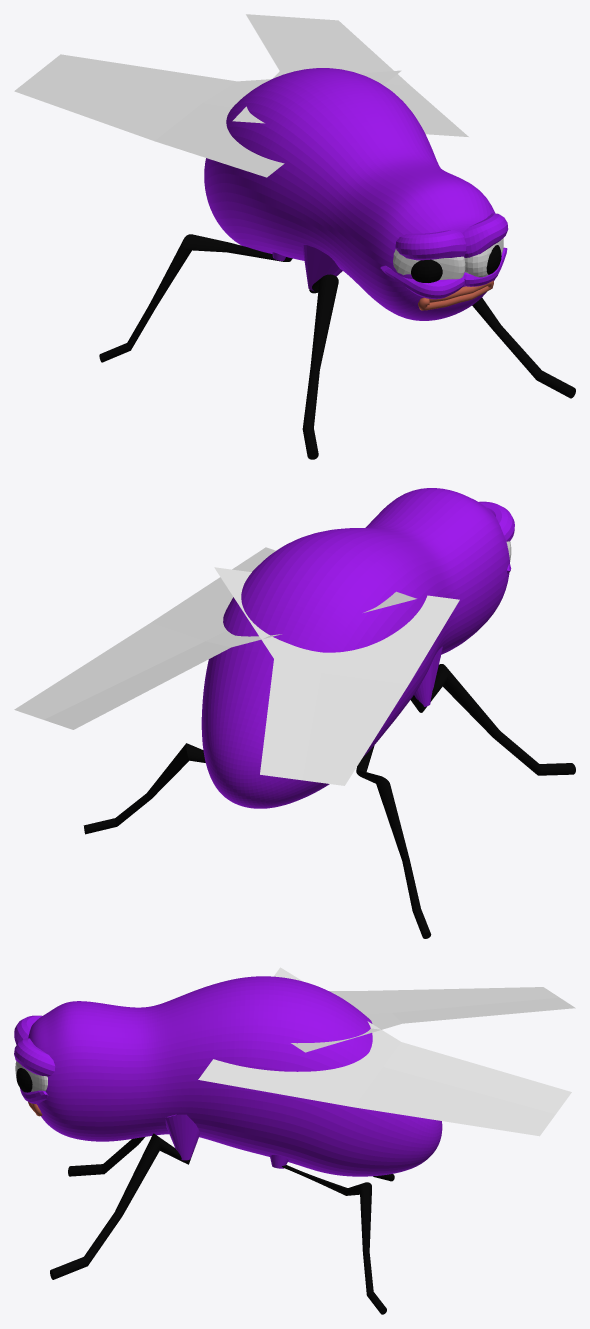
The picture shows the model from 3 angles, top to bottom: view 1: azimuth 30°, elevation 25°; view 2: azimuth 150°, elevation 25°; view 3: azimuth 270°, elevation 25°; orthographic projection. The views are drawn at different scales.
Visible parts, largest first — view 1: Cube.003, Plane, Plane.001, Cylinder.001, Cylinder.004, Torus.001, Cylinder, Torus.002, Torus.004, Cylinder.006, Sphere.004, Cylinder.002 (+2 smaller); view 2: Cube.003, Plane, Plane.001, Cylinder.001, Cylinder.004, Cylinder.003, Cylinder.006, Torus.001; view 3: Cube.003, Plane.001, Plane, Cylinder, Cylinder.003, Cylinder.007, Torus.002, Cylinder.001.
Boxes of the visible parts, <box> form: Cube.003: <box>204,68,494,320</box>; Plane: <box>14,54,401,177</box>; Plane.001: <box>232,14,468,136</box>; Cylinder.001: <box>302,274,338,459</box>; Cylinder.004: <box>99,234,292,362</box>; Torus.001: <box>395,230,466,260</box>; Cylinder: <box>472,297,575,398</box>; Torus.002: <box>462,213,508,257</box>; Torus.004: <box>380,265,464,299</box>; Cylinder.006: <box>302,245,342,291</box>; Sphere.004: <box>393,249,465,279</box>; Cylinder.002: <box>418,280,493,310</box>; Cube.003: <box>201,488,509,808</box>; Plane: <box>214,567,459,785</box>; Plane.001: <box>14,547,416,729</box>; Cylinder.001: <box>410,664,575,775</box>; Cylinder.004: <box>356,745,431,938</box>; Cylinder.003: <box>83,743,205,834</box>; Cylinder.006: <box>414,646,442,706</box>; Torus.001: <box>479,501,514,541</box>; Cube.003: <box>28,976,442,1176</box>; Plane.001: <box>198,967,571,1136</box>; Plane: <box>291,987,575,1052</box>; Cylinder: <box>50,1133,193,1279</box>; Cylinder.003: <box>282,1165,386,1314</box>; Cylinder.007: <box>165,1114,199,1160</box>; Torus.002: <box>14,1038,55,1076</box>; Cylinder.001: <box>68,1137,144,1176</box>.
Size of the model in its own units: 290 by 237 by 453.
